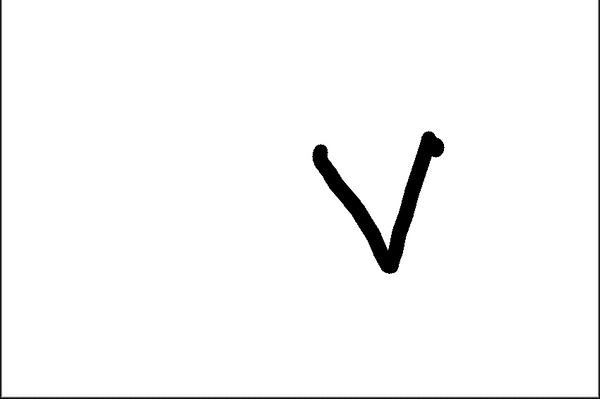V: (303, 123, 456, 276)
